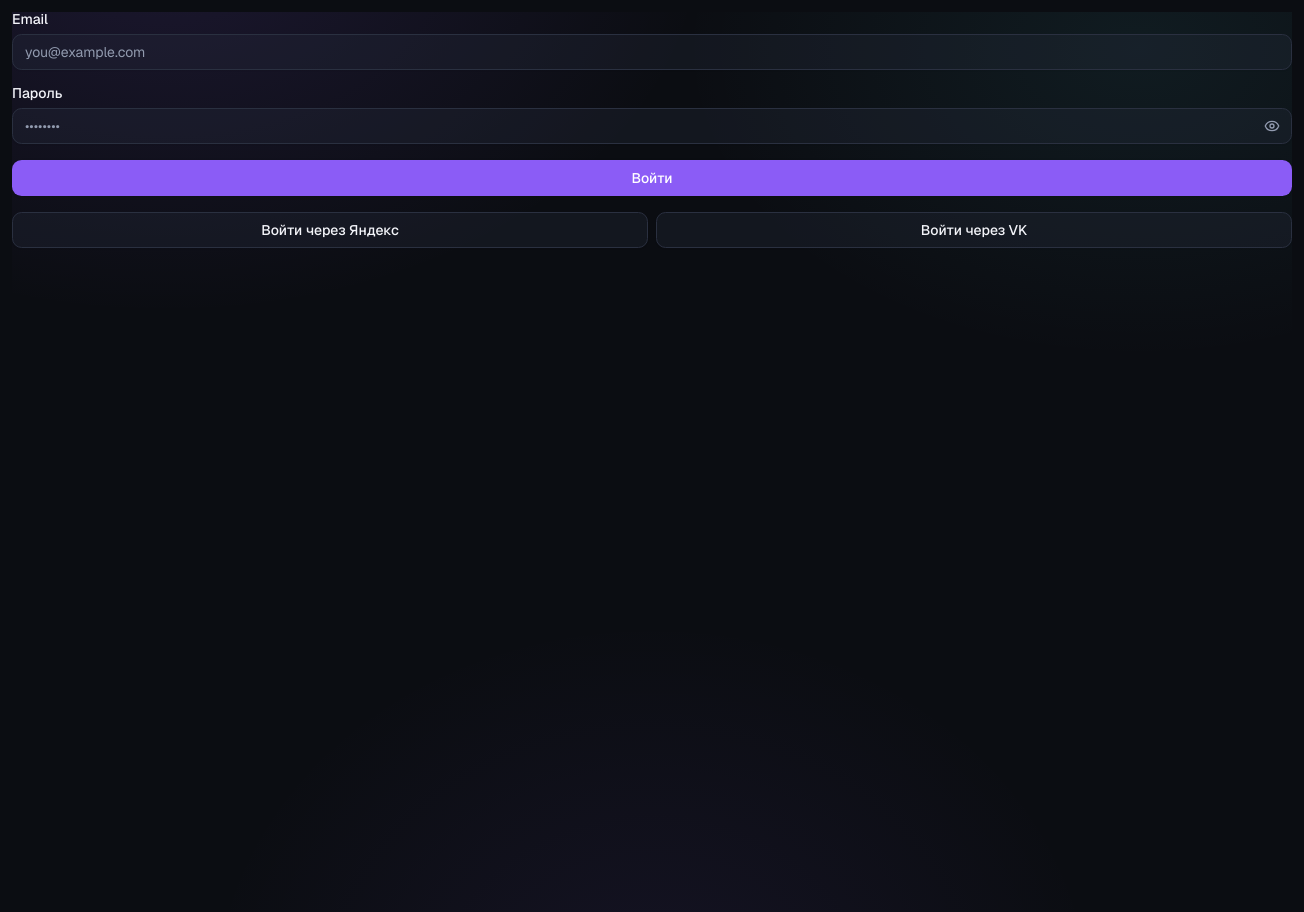
it: SignInForm › shows validation errors for invalid input
This screenshot has width=1304, height=912.
Type "not-an-email" into the field labelled "Email" at (652,52), box [12,34,1292,70]
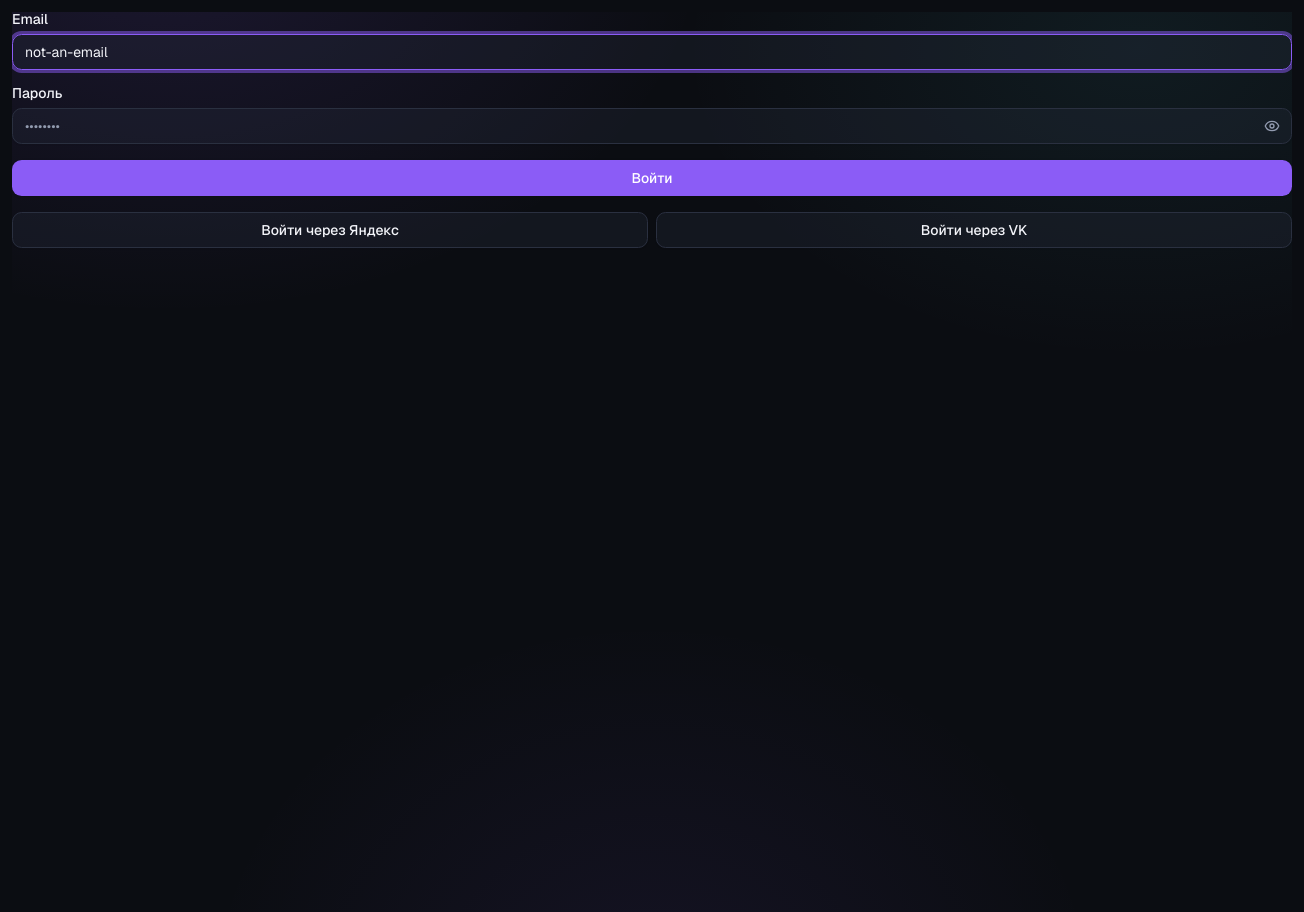
Click the button "Войти" at (652,178), box [12,160,1292,196]
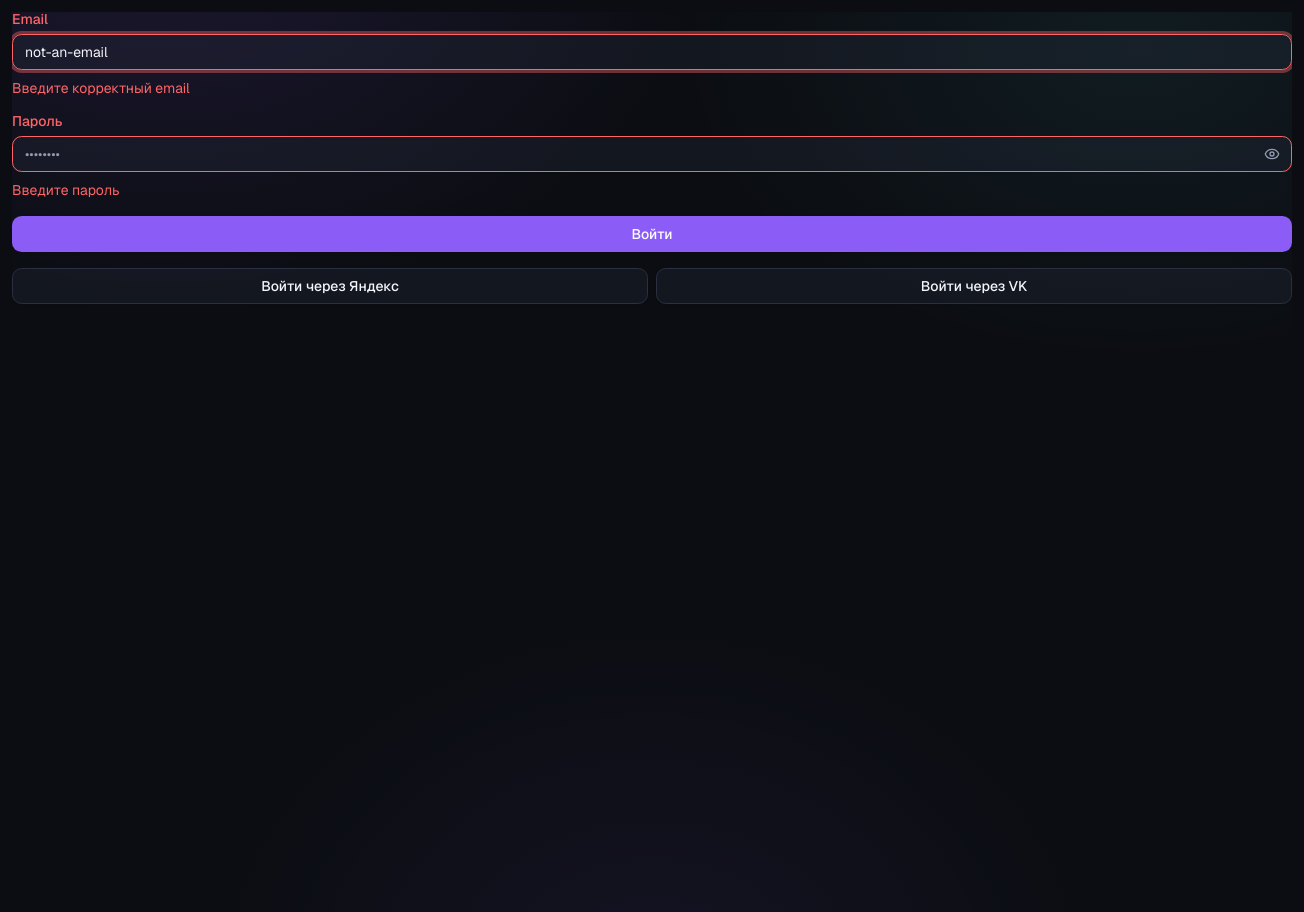
Result: the text "Введите корректный email" is shown at [12,79,190,97]
